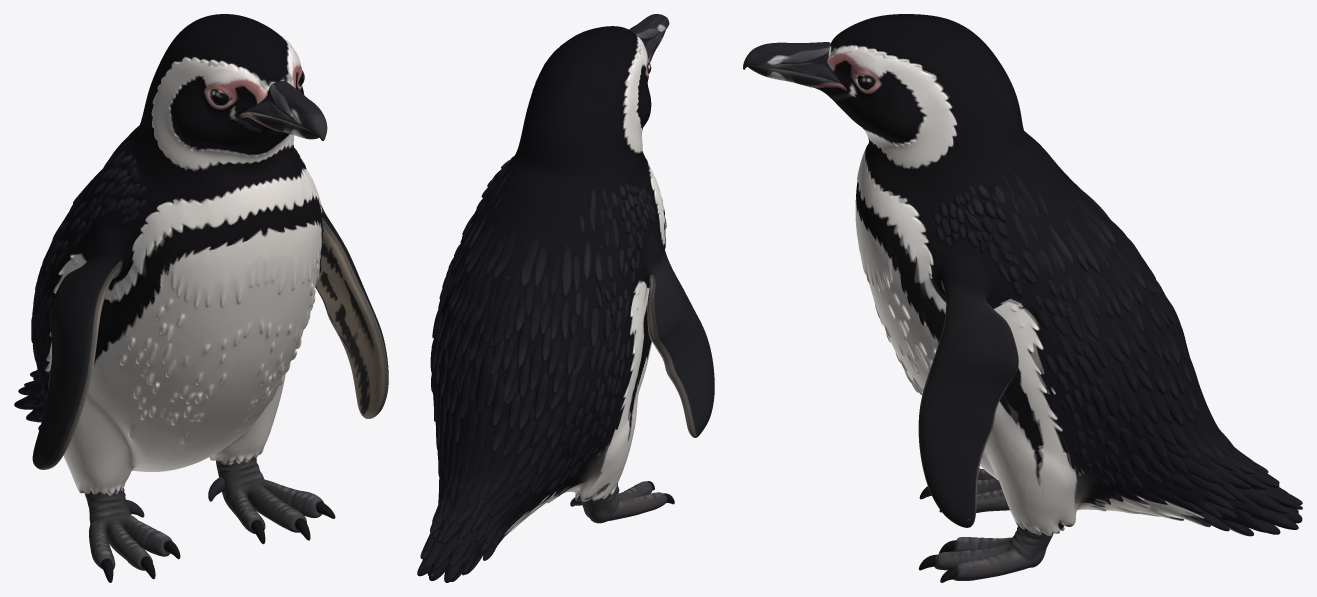
The model's file is pinguino.glb.
3 views of the same model, side by side, from view 1: azimuth 30°, elevation 25°; view 2: azimuth 150°, elevation 25°; view 3: azimuth 270°, elevation 25° (orthographic). The views are drawn at different scales.
Size of the model in its own units: 0.0642 by 0.1 by 0.098.
1 material, 1 textured.
